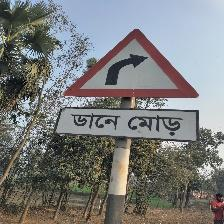Right-turn: (60, 28, 202, 143)
